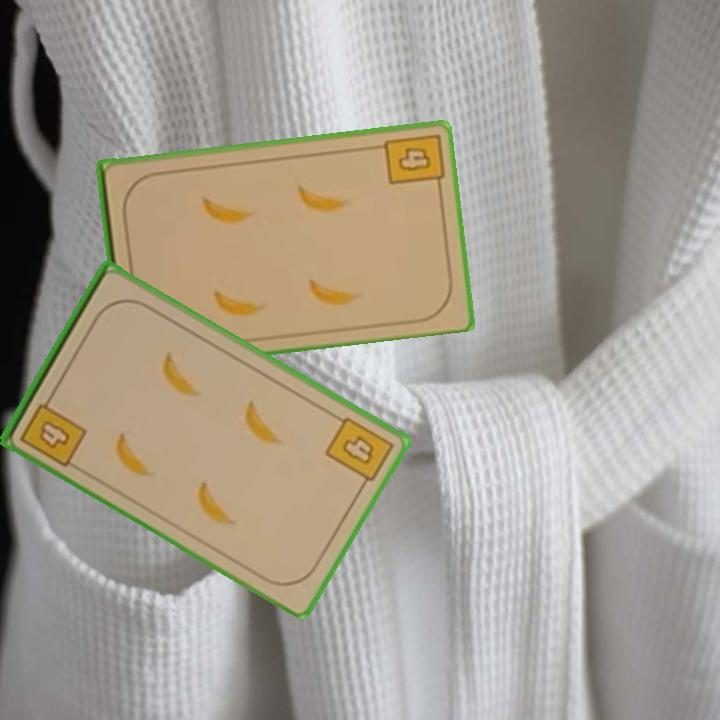4b: (321, 413, 397, 493), (16, 389, 90, 470), (379, 130, 445, 192)
